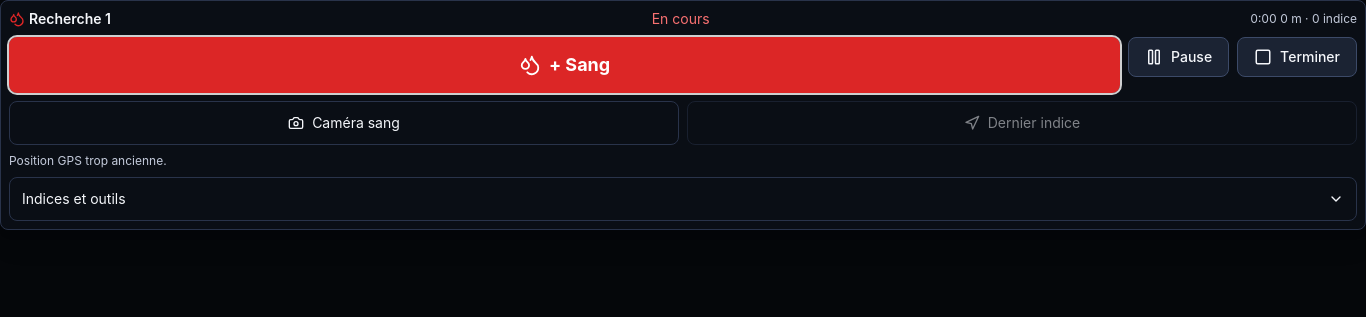
Test case: BloodPanel › refuses a stale GPS fix
The width and height of the screenshot is (1366, 317).
Click the button "+ Sang": (564, 65) x1=9 y1=37 x2=1120 y2=93
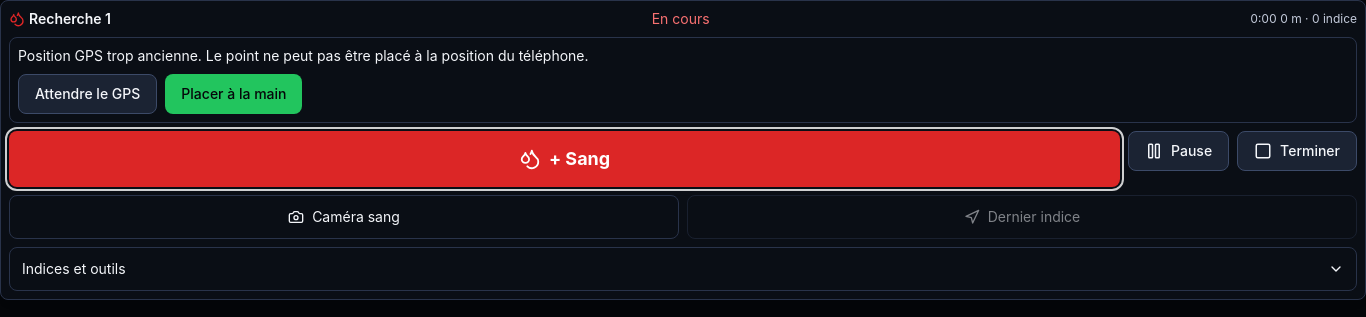
Check: the message shows "trop ancienne", box x1=18 y1=47 x2=202 y2=64
